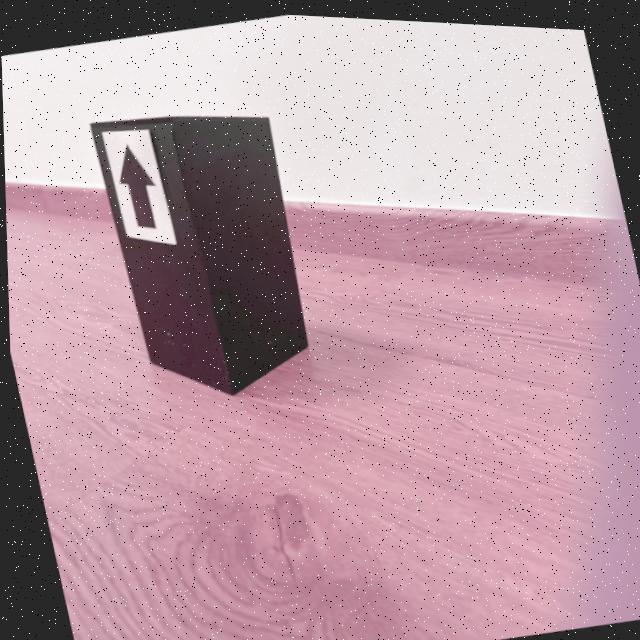UP: (119, 142, 157, 228)
